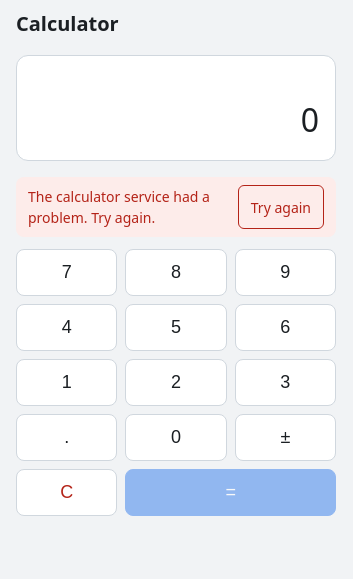
App › offers a retry when the catalog cannot be reached
Expected: the message shows "The calculator service had a problem.", [28,187,210,227]
Click the button "Try again" at coordinates (281, 207), box [238,185,324,229]
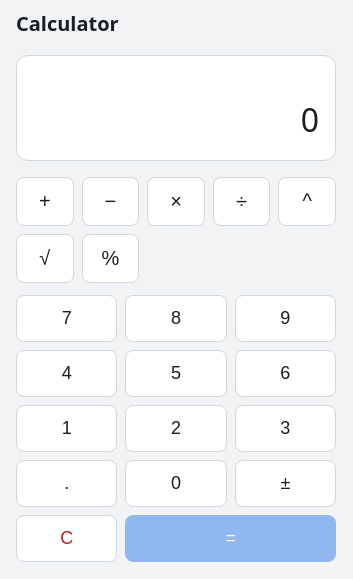
Now the message "The calculator service had a problem. Try again. Try again" is gone
